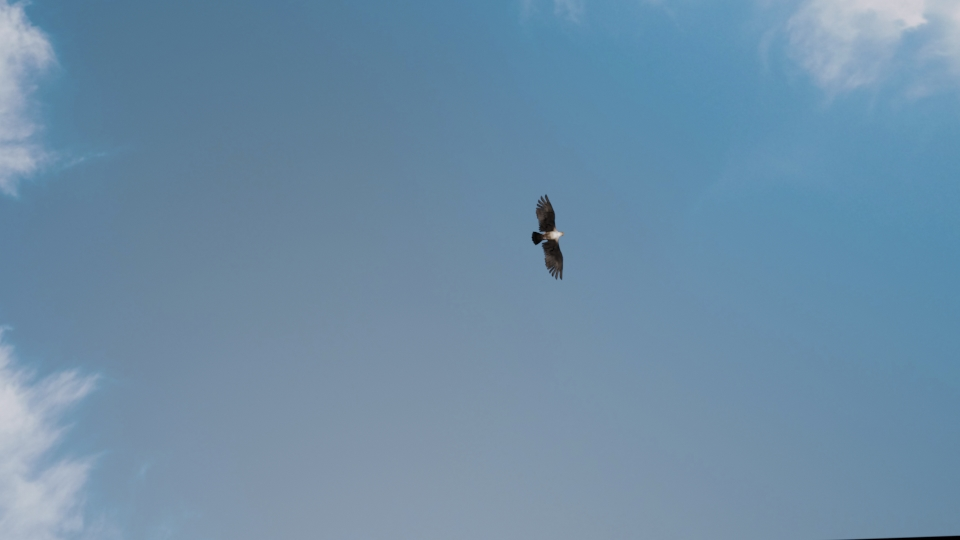bird: (531, 191, 564, 281)
